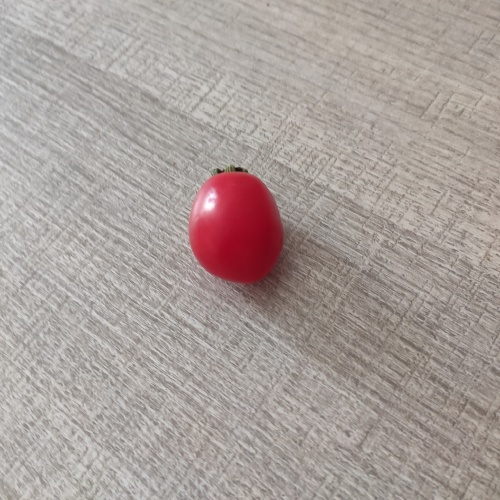pomodoro: (187, 163, 284, 286)
